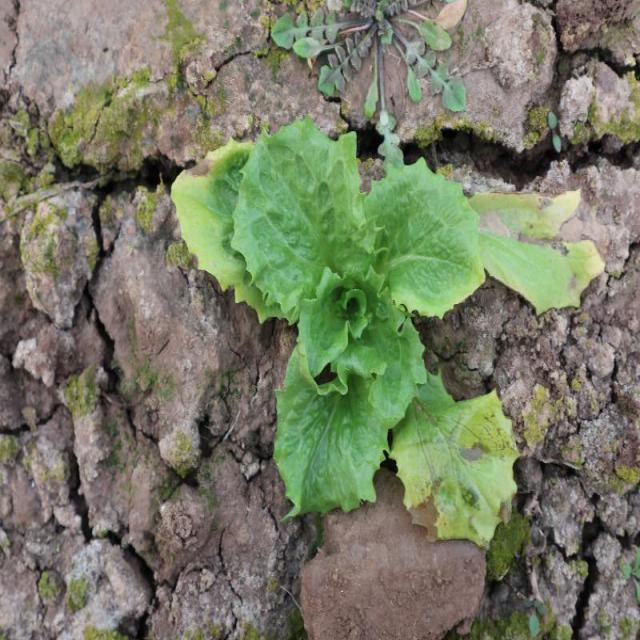crop: (172, 112, 607, 553)
